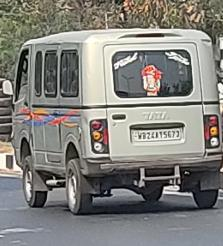Truck: (12, 26, 223, 218)
